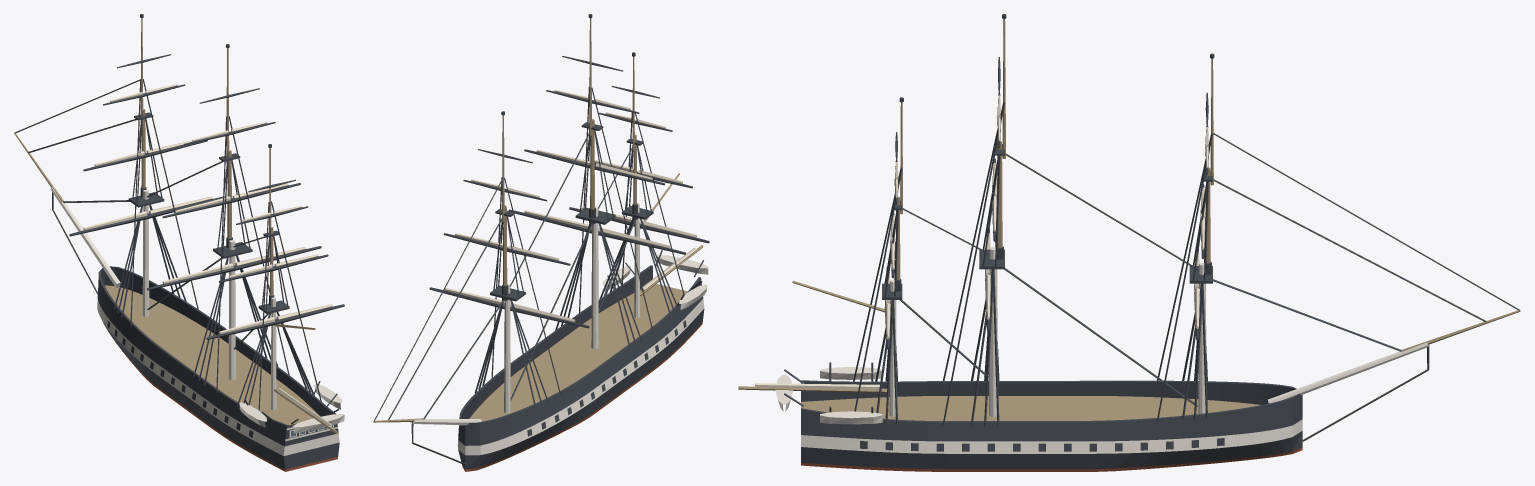
The model's file is bos-uss-constitution.glb.
3 renders of one model, left to right at view 1: azimuth 30°, elevation 25°; view 2: azimuth 150°, elevation 25°; view 3: azimuth 270°, elevation 25°, orthographic. The views are drawn at different scales.
Parts seen in each view (by area): view 1: USS Constitution; view 2: USS Constitution; view 3: USS Constitution.
Boxes of the visible parts, x1,y1,x2,y2 form: USS Constitution: [14, 14, 344, 471]; USS Constitution: [373, 14, 709, 471]; USS Constitution: [738, 14, 1520, 471].
Size of the model in its own units: 29 by 57.45 by 93.55.
